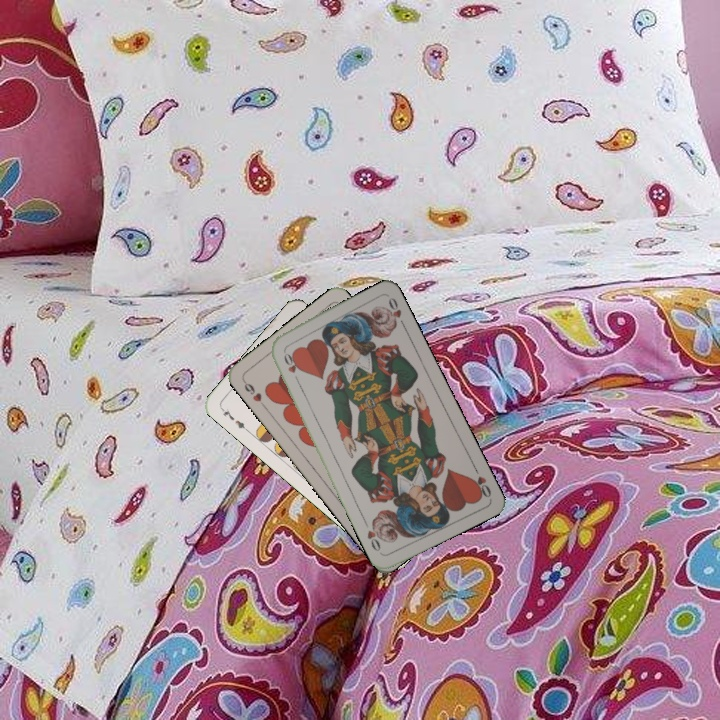E7: (217, 404, 251, 434)
H9: (239, 376, 269, 411)
HO: (468, 462, 494, 500), (279, 347, 302, 386)
